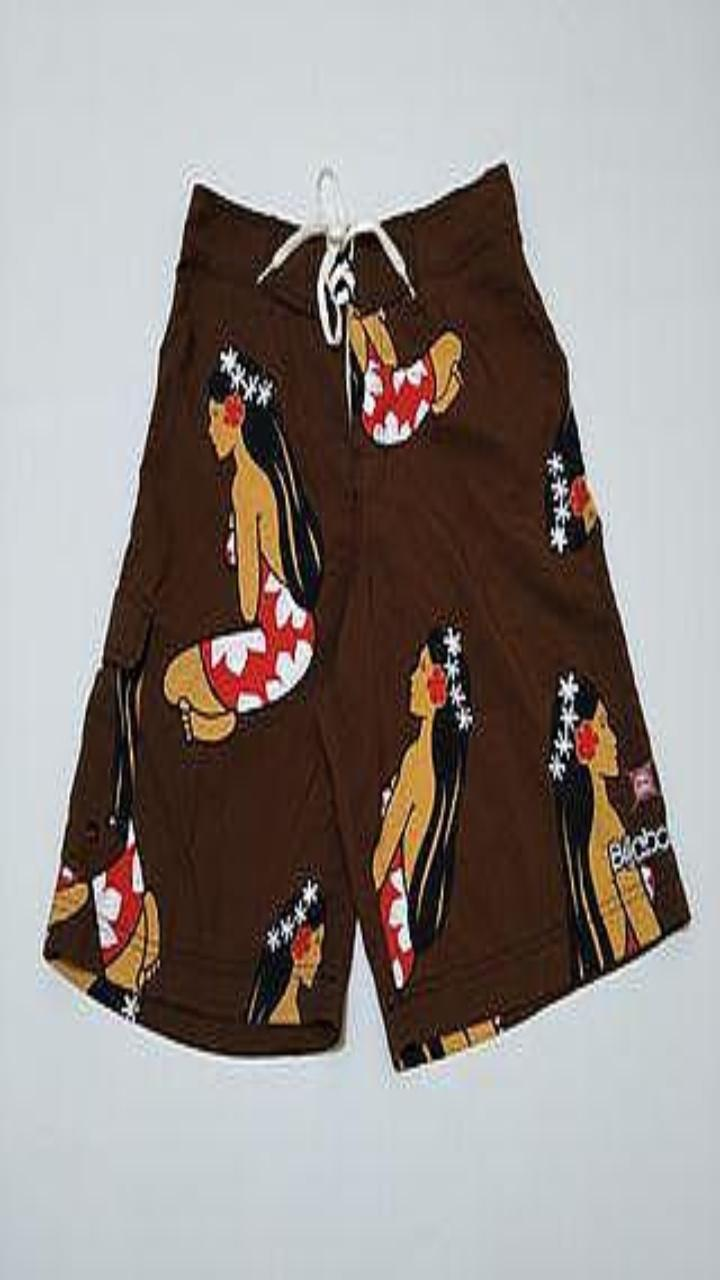Shorts: (44, 164, 688, 1068)
